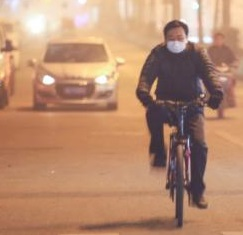person: (132, 17, 221, 227), (194, 30, 242, 123)
